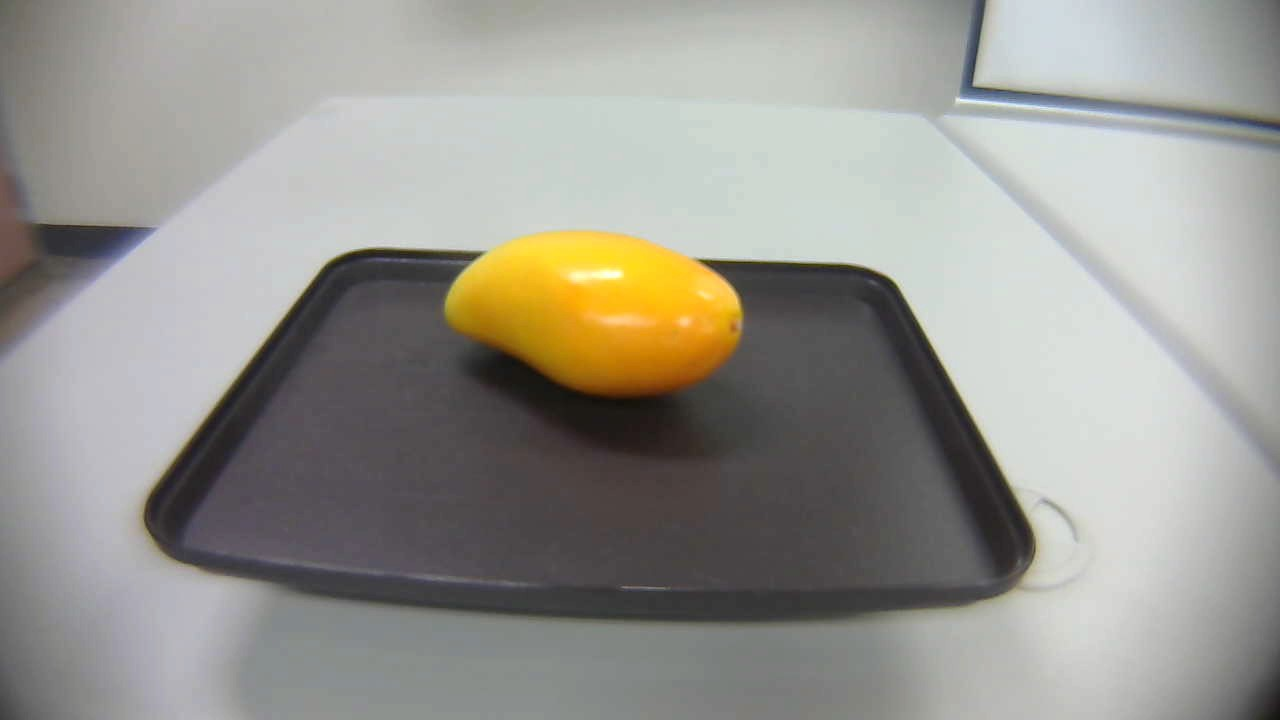yellow mango: (436, 227, 752, 408)
